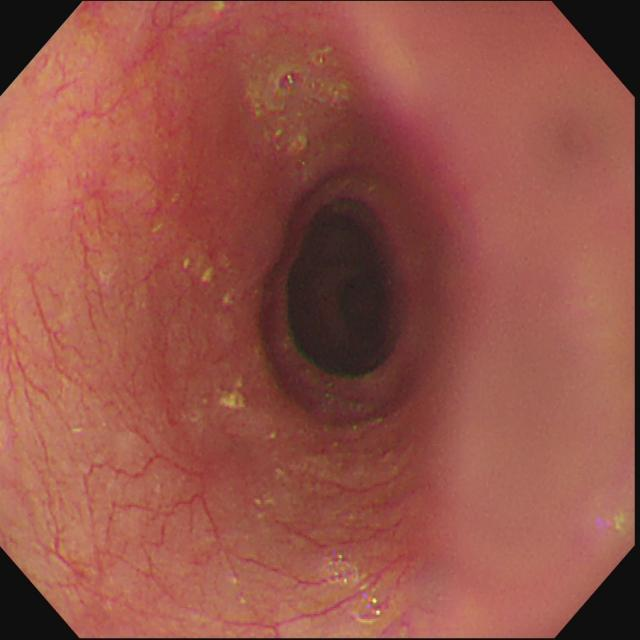E: (275, 191, 412, 385)
J: (253, 96, 310, 159), (182, 255, 238, 310), (221, 380, 248, 411)
T: (327, 555, 387, 627), (275, 67, 347, 104)
